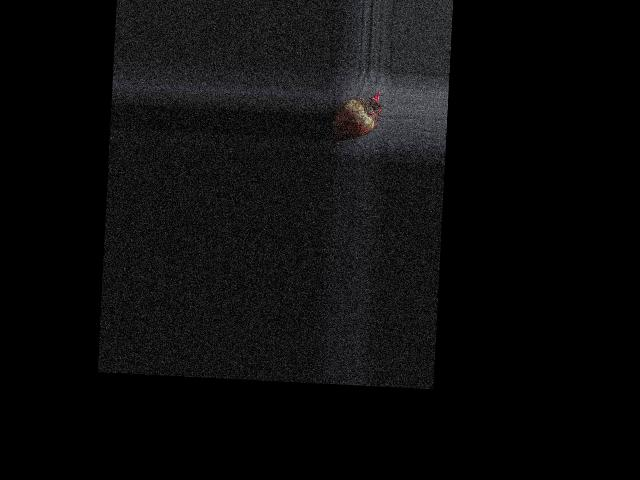beet: (331, 88, 384, 150)
